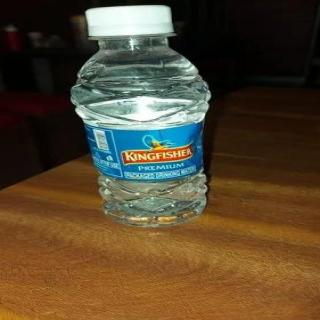Plastic-bottle: (66, 1, 226, 229)
